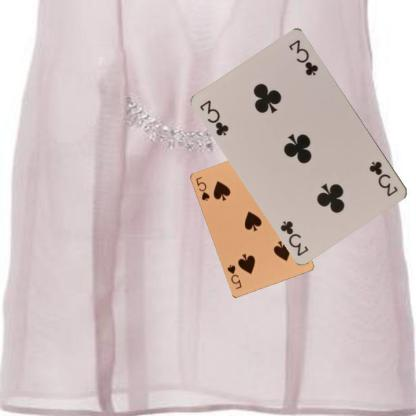3c: (197, 97, 231, 138), (366, 158, 400, 198)
5s: (193, 174, 211, 202)
